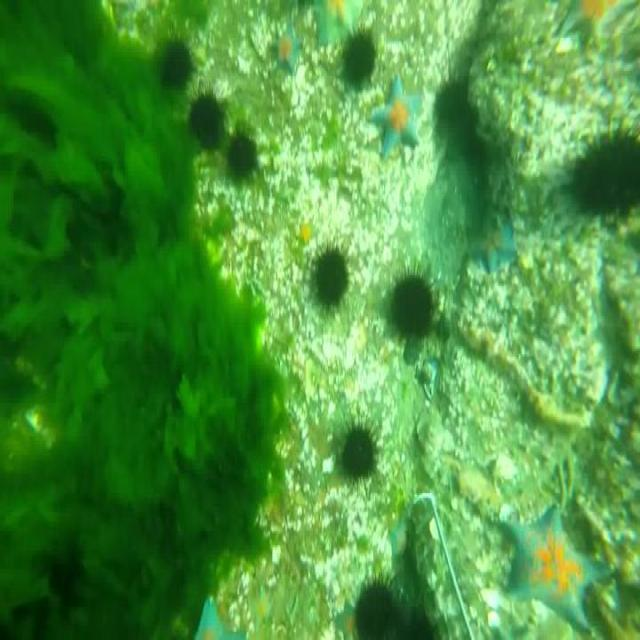echinus: (564, 117, 640, 221), (391, 265, 439, 340), (307, 236, 349, 316), (340, 408, 380, 492), (355, 573, 400, 640), (341, 25, 379, 87), (435, 71, 473, 127), (226, 125, 257, 180), (402, 605, 444, 640), (208, 90, 222, 158)
starfish: (502, 505, 607, 640), (370, 74, 426, 160), (559, 0, 630, 40), (191, 594, 245, 640), (472, 220, 516, 268), (268, 22, 298, 78), (390, 509, 407, 551)
